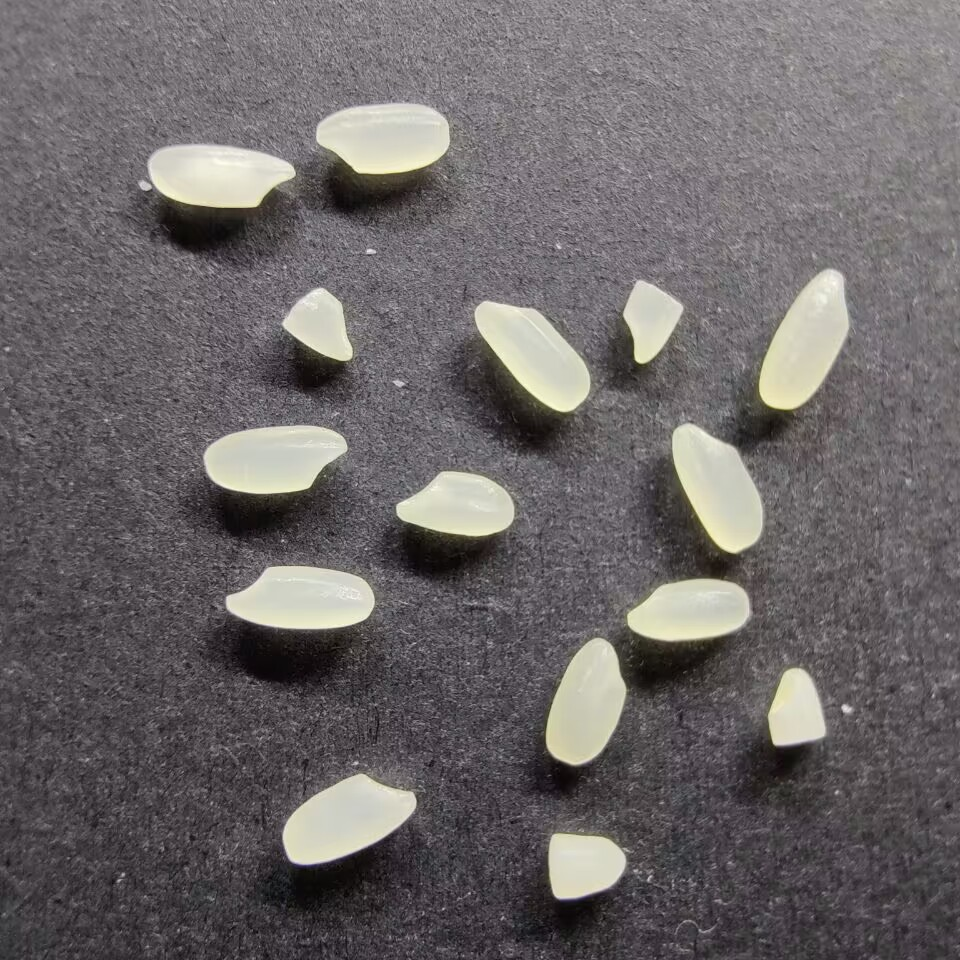broken: (279, 286, 357, 363), (546, 830, 629, 902), (620, 276, 687, 365), (768, 664, 826, 748)
rice: (757, 264, 854, 410), (471, 297, 593, 412), (280, 772, 419, 866), (670, 422, 765, 554), (543, 635, 630, 766), (201, 424, 350, 495), (313, 101, 453, 176), (146, 142, 297, 211), (223, 563, 376, 631), (393, 469, 516, 538), (624, 576, 752, 642)
